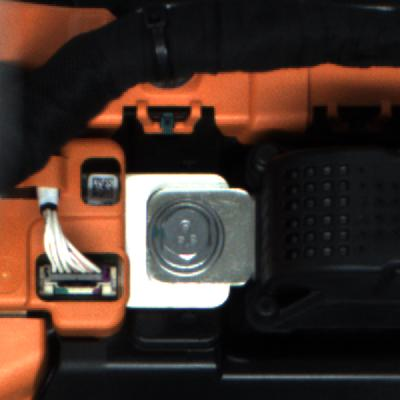nut_b: (140, 199, 235, 280)
